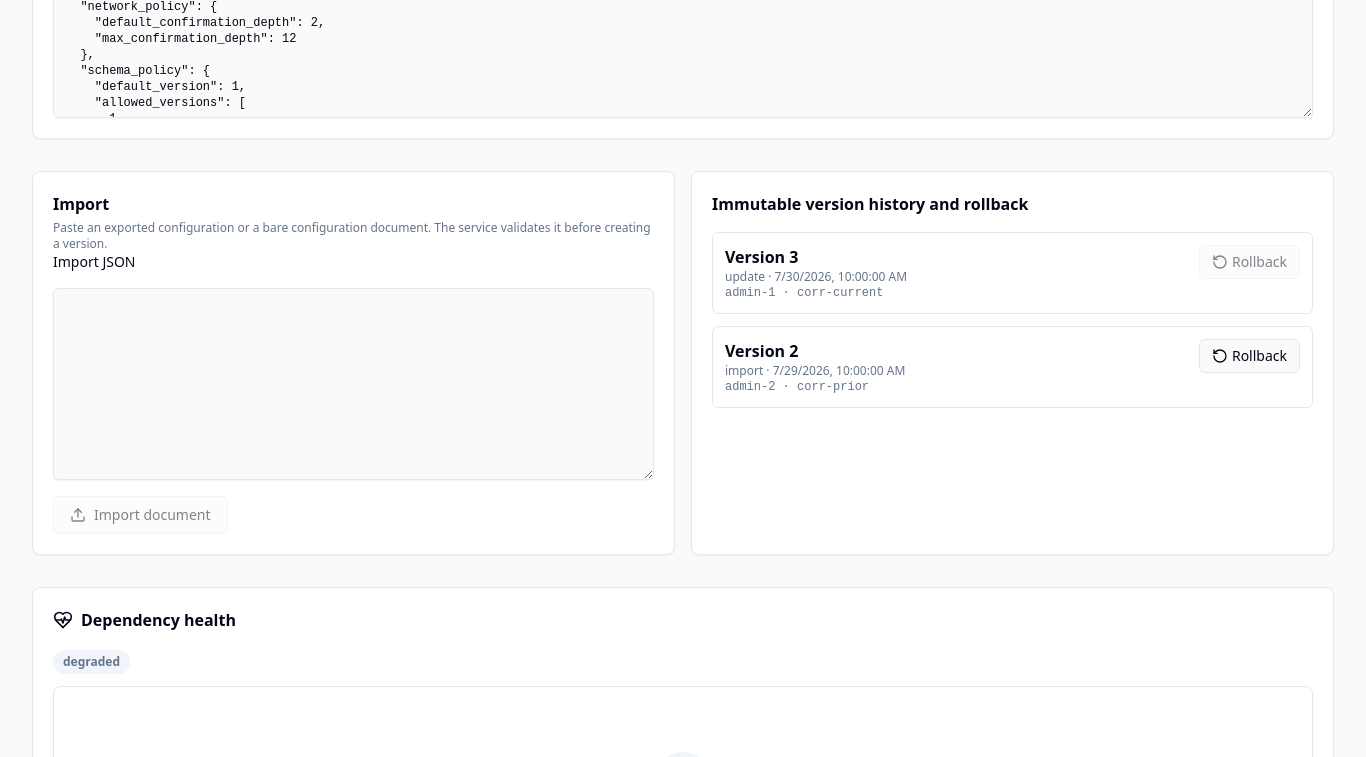
Test: blockchain traceability configuration page › fails closed on malformed imports and shows empty health without assuming success
(page scrolled)
Step 1. Type "[1,2,3]" into the text box labelled "Import JSON" → (354, 384), box [53,288,654,480]
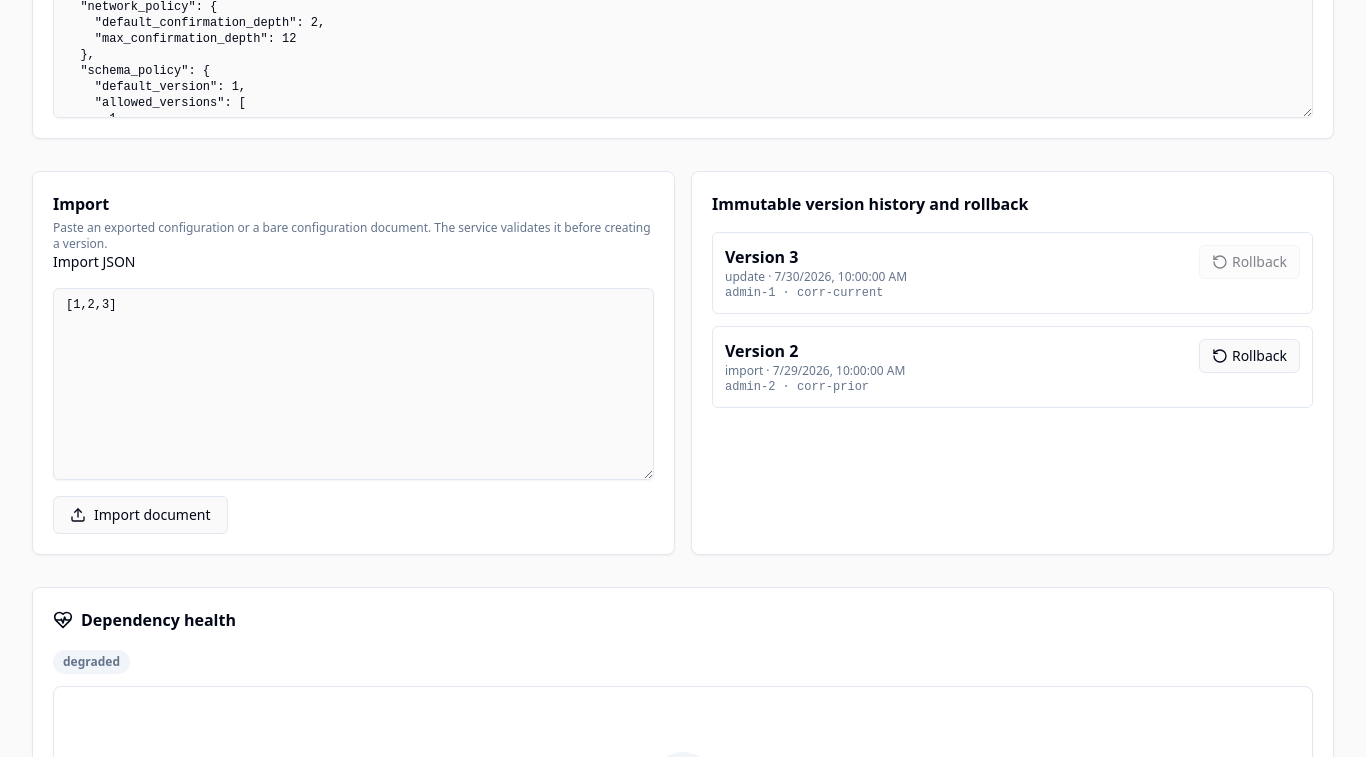
Step 2. Click the button "Import document" → click(140, 515), box [53,496,228,534]
(page scrolled)
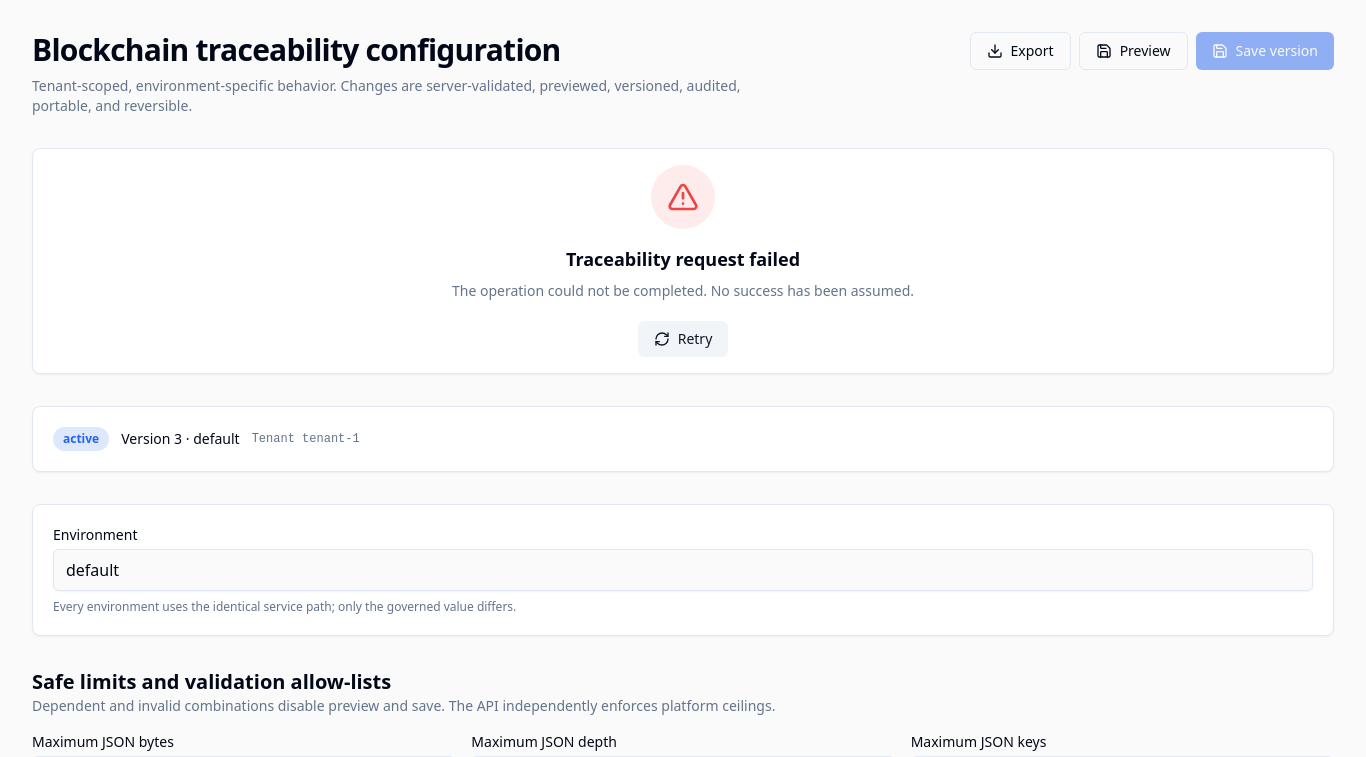
Expected: the heading "Traceability request failed" is shown, [566,245,800,273]
Expected: the text "The operation could not be completed. No success has been assumed." is shown, [452,281,914,301]
